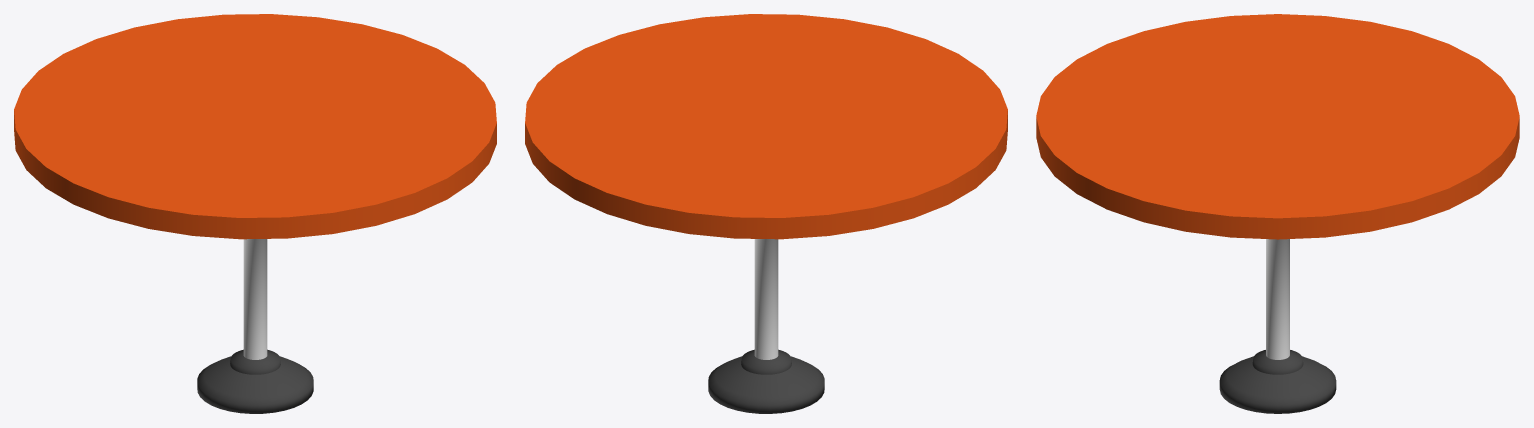
File: Table.fbx
3 renders of one model, left to right at view 1: azimuth 30°, elevation 25°; view 2: azimuth 150°, elevation 25°; view 3: azimuth 270°, elevation 25°, orthographic.
Parts seen in each view (by area): view 1: Table; view 2: Table; view 3: Table.
Part boxes in pixels (bbox=[...]): Table: bbox=[14, 14, 496, 413]; Table: bbox=[525, 14, 1007, 413]; Table: bbox=[1036, 14, 1519, 413].
Bounding box in the file's own units: 3.03 × 3.03 × 1.89.
